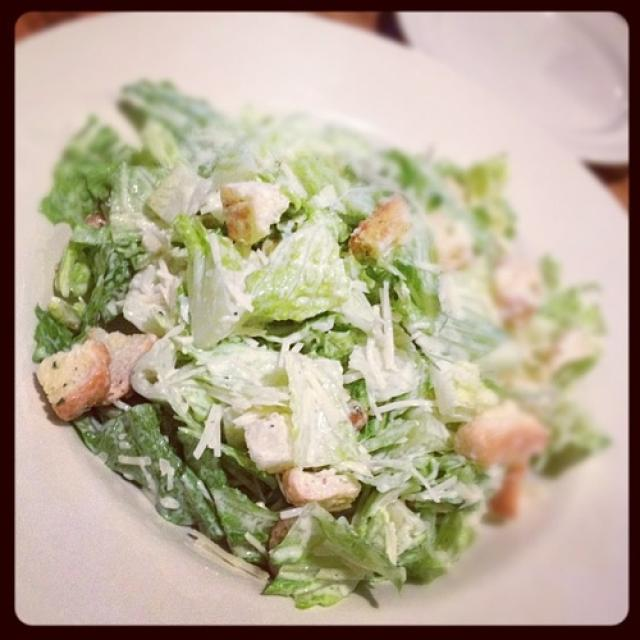蔬菜料理: (29, 42, 612, 602)
